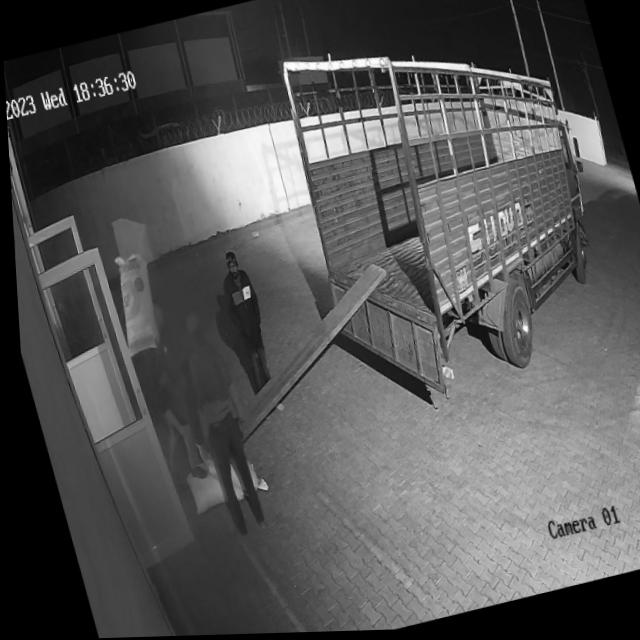sack: (100, 251, 165, 359), (177, 457, 239, 516)
